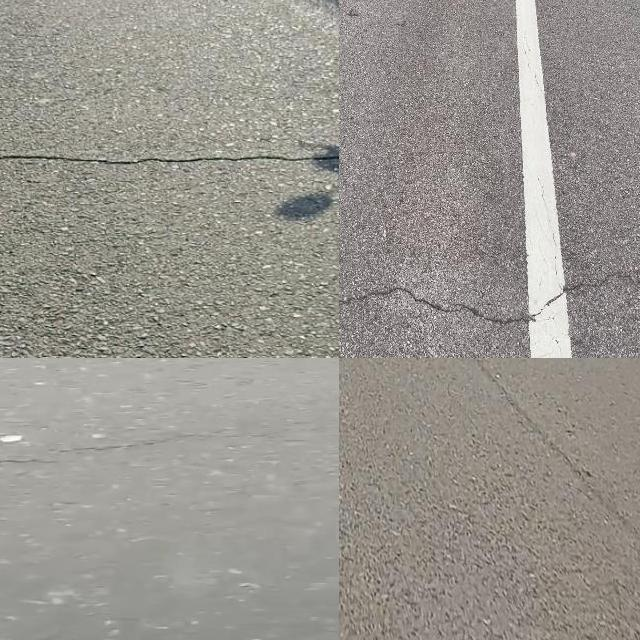Melintang: (339, 264, 640, 336), (0, 132, 339, 181)
Memanjang: (459, 358, 640, 562)
